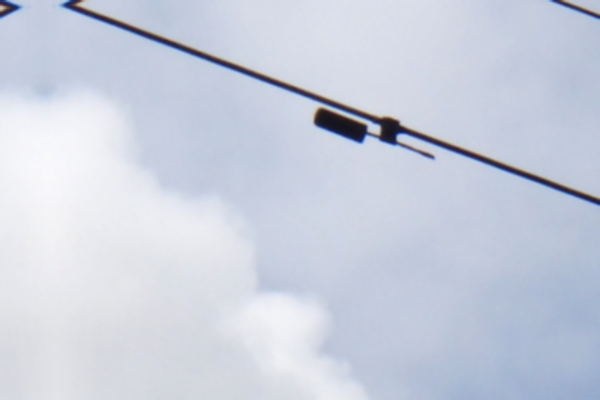damper_defect: (309, 102, 441, 163)
